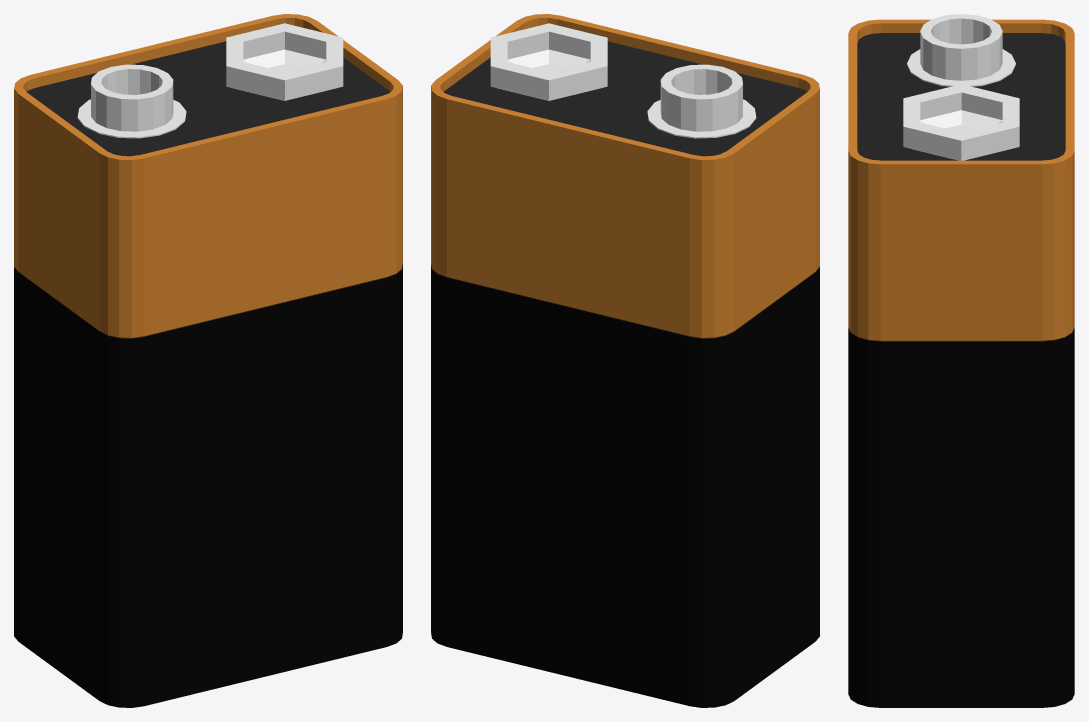
The model's file is battery.glb.
The picture shows the model from 3 angles, left to right: view 1: azimuth 30°, elevation 25°; view 2: azimuth 150°, elevation 25°; view 3: azimuth 270°, elevation 25°; orthographic projection.
Visible parts, largest first — view 1: battery 9V; view 2: battery 9V; view 3: battery 9V.
Part boxes in pixels (left/top/right/bottom): battery 9V: left=14, top=14, right=402, bottom=707; battery 9V: left=431, top=14, right=819, bottom=707; battery 9V: left=848, top=14, right=1074, bottom=707.
Bounding box in the file's own units: 0.0265 × 0.0484 × 0.0175.
Materials: 1 (1 with a texture image).
